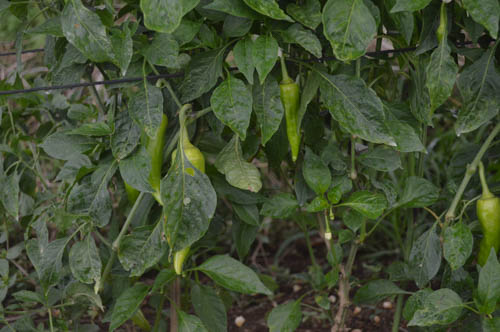ChiliPepper: (174, 149, 208, 273), (139, 118, 167, 188), (280, 83, 301, 160), (474, 198, 497, 262)
